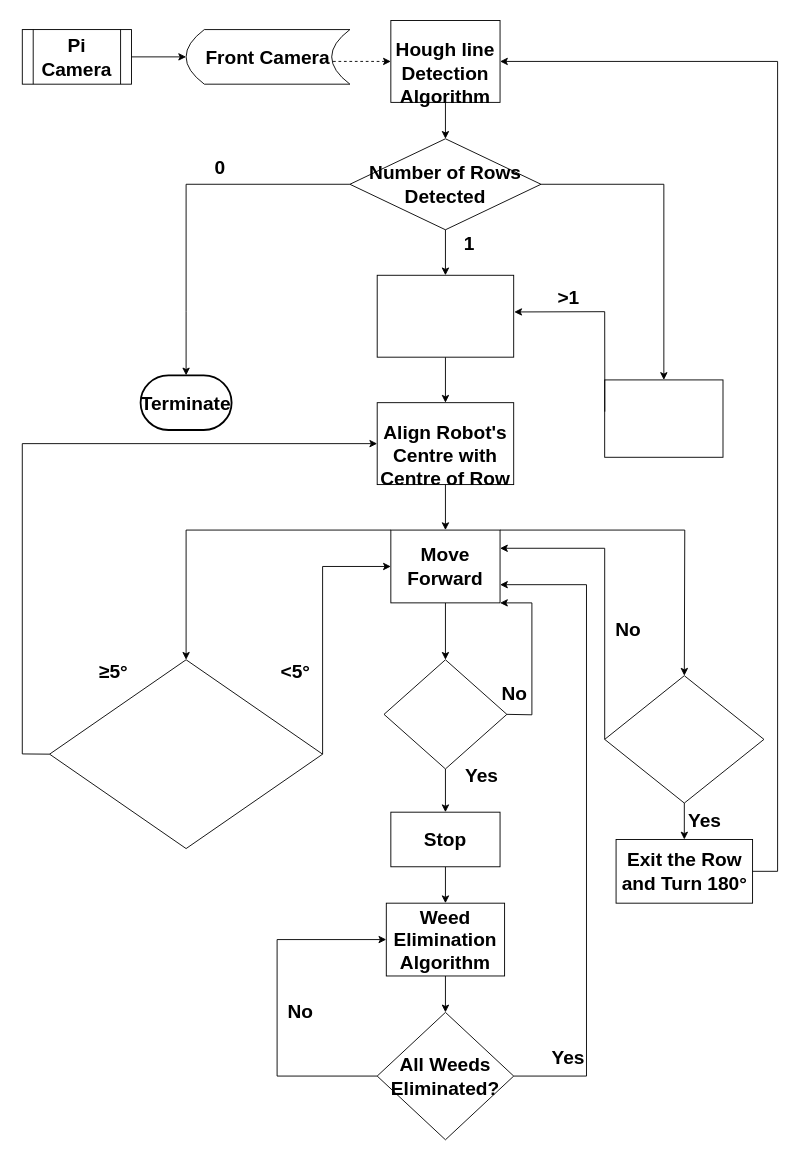
This 801x1156 diagram has some shape labels left out. Each missing label, with the box of its shape:
Derivation between Robot and Row Centre: (49, 659, 323, 849)
Determine Distance to Row and Turn Angle: (376, 274, 514, 357)
Determine Nearest Crop Row: (604, 379, 723, 457)
How the Row Ended: (604, 675, 764, 803)
Weed Detected?: (383, 659, 507, 769)
